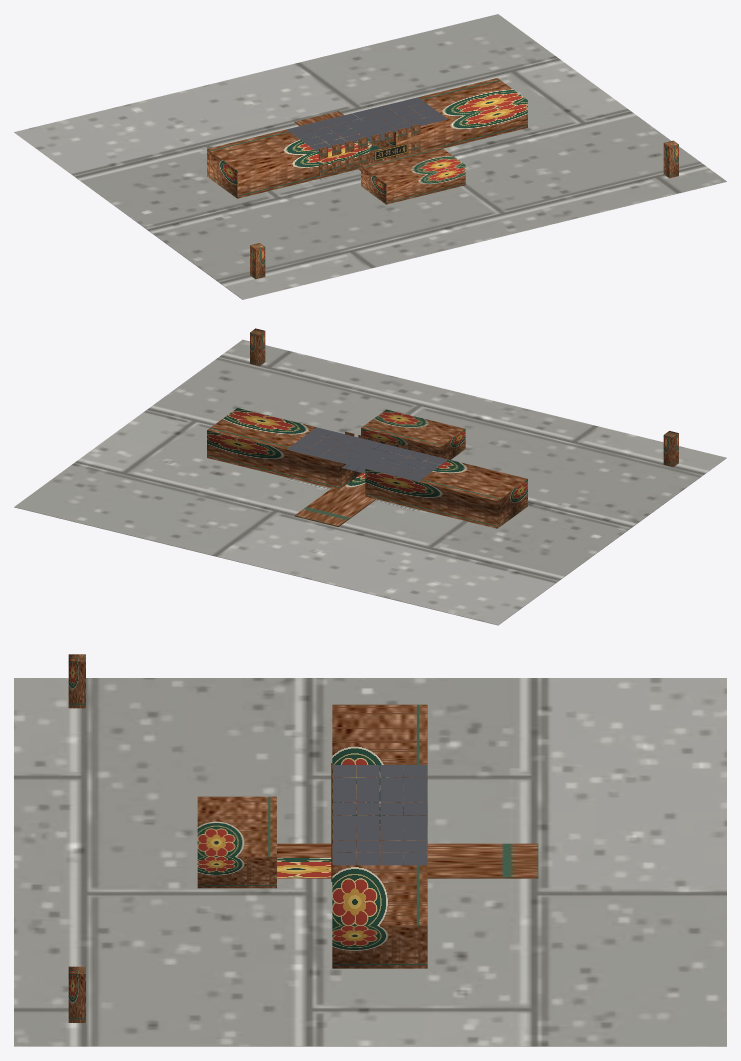
The picture shows the model from 3 angles, top to bottom: view 1: azimuth 30°, elevation 25°; view 2: azimuth 150°, elevation 25°; view 3: azimuth 270°, elevation 25°; orthographic projection. The views are drawn at different scales.
Visible parts, largest first — view 1: 11710_01_05552_028_01_L2__base, 11710_01_05552_028_02_L2__body, 11710_01_05552_028_03_L2__roof, 11710_01_05552_028_05_L2__openings, 11710_01_05552_028_06_L2__green; view 2: 11710_01_05552_028_01_L2__base, 11710_01_05552_028_02_L2__body, 11710_01_05552_028_03_L2__roof, 11710_01_05552_028_06_L2__green; view 3: 11710_01_05552_028_01_L2__base, 11710_01_05552_028_02_L2__body, 11710_01_05552_028_03_L2__roof, 11710_01_05552_028_06_L2__green.
Boxes of the visible parts, x1,y1,x2,y2 form: 11710_01_05552_028_01_L2__base: (14,14,726,299); 11710_01_05552_028_02_L2__body: (207,78,527,204); 11710_01_05552_028_03_L2__roof: (286,97,447,151); 11710_01_05552_028_05_L2__openings: (318,124,420,175); 11710_01_05552_028_06_L2__green: (250,140,678,279); 11710_01_05552_028_01_L2__base: (14,339,726,625); 11710_01_05552_028_02_L2__body: (207,408,527,528); 11710_01_05552_028_03_L2__roof: (286,427,447,481); 11710_01_05552_028_06_L2__green: (250,328,678,467); 11710_01_05552_028_01_L2__base: (14,678,726,1046); 11710_01_05552_028_02_L2__body: (197,704,538,968); 11710_01_05552_028_03_L2__roof: (332,765,427,865); 11710_01_05552_028_06_L2__green: (68,654,85,1022).
Bounding box in the file's own units: 110 × 7.12 × 90.
Materials: 5 (5 with a texture image).
